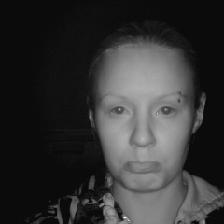sad: (80, 27, 211, 193)
